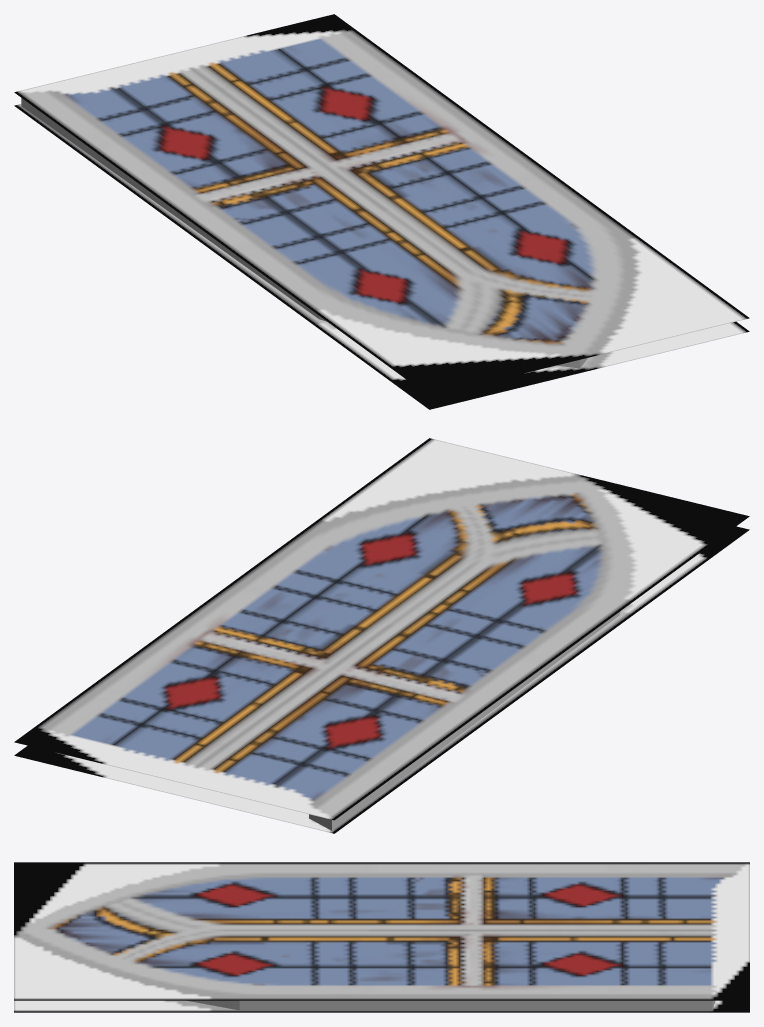
Rendered from pz_native_location_community_church_small_01_119_frame.obj.
3 views of the same model, one above another, from view 1: azimuth 30°, elevation 25°; view 2: azimuth 150°, elevation 25°; view 3: azimuth 270°, elevation 25° (orthographic). The views are drawn at different scales.
Parts seen in each view (by area): view 1: pz_native_location_community_church_small_01_119_frame; view 2: pz_native_location_community_church_small_01_119_frame; view 3: pz_native_location_community_church_small_01_119_frame.
Part boxes in pixels (x1,y1,x2,y2): pz_native_location_community_church_small_01_119_frame: (14,14,749,409); pz_native_location_community_church_small_01_119_frame: (14,438,749,833); pz_native_location_community_church_small_01_119_frame: (14,862,749,1012).
Size of the model in its own units: 1 by 0.04 by 2.25.
1 material, 1 textured.
